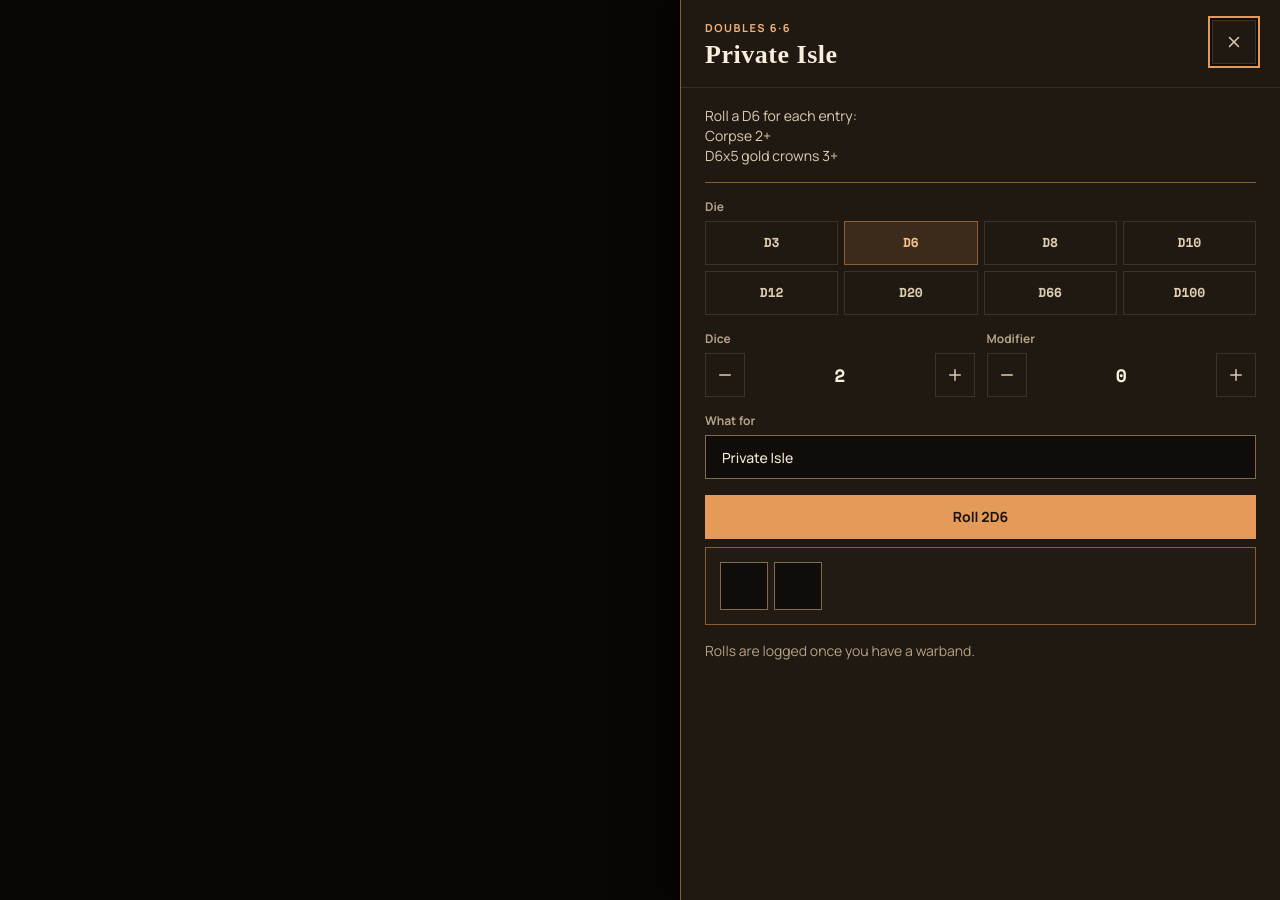
Test: PlaceRollPanel › holds the place's text above the dice roller, both on screen at once
expect the text "Doubles 6·6" is shown: met, box [705,20,791,35]
expect the text "Roll a D6 for each entry: Corpse 2+ D6x5 gold crowns 3+" is shown: met, box [705,106,1256,183]
Note: the table's roll typed in, as the top bar's roller takes it
Type "4" into the field named "First D6 rolled" at (744, 586), box [720,562,768,610]
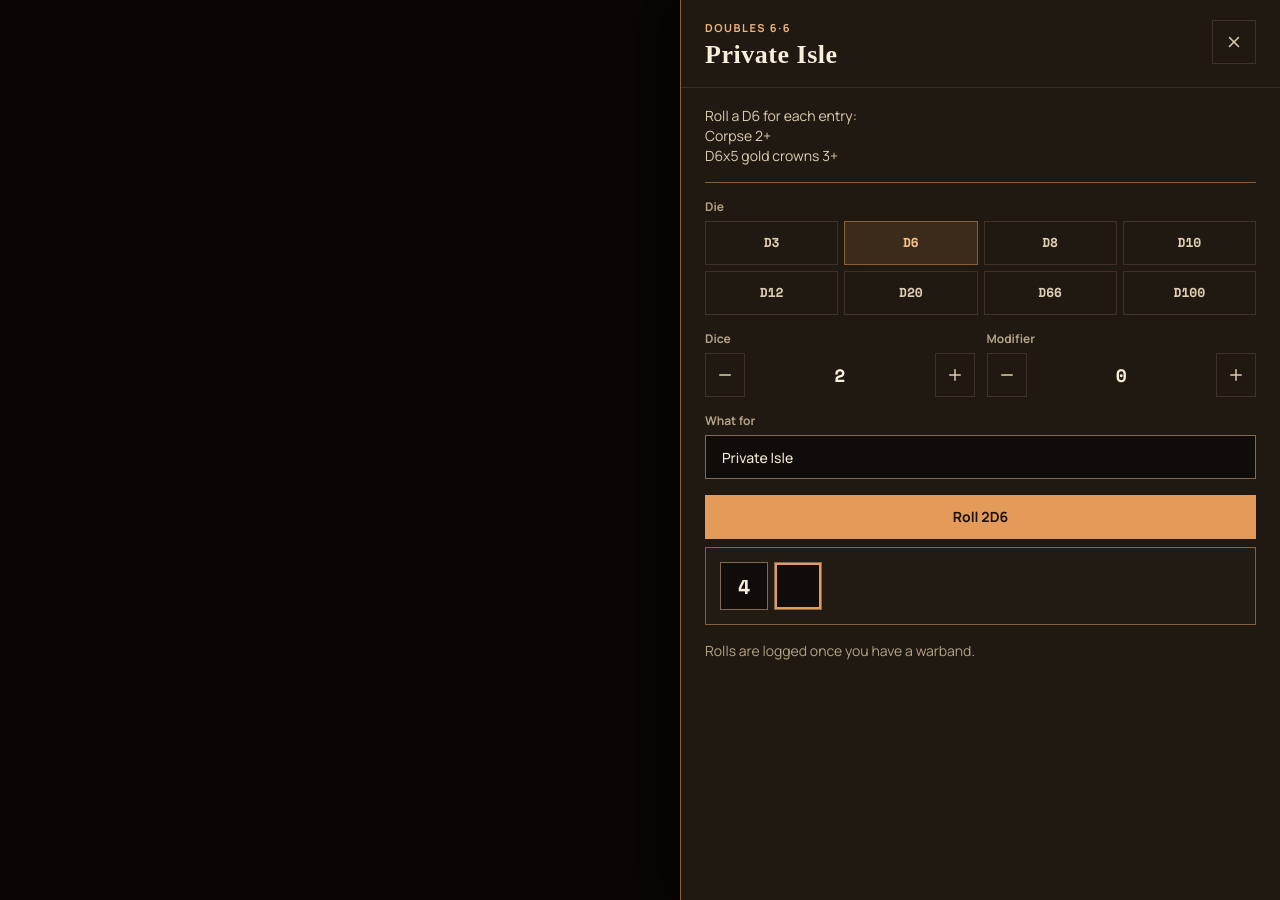
Type "6" into the field named "Second D6 rolled" at (798, 586), box [774,562,822,610]
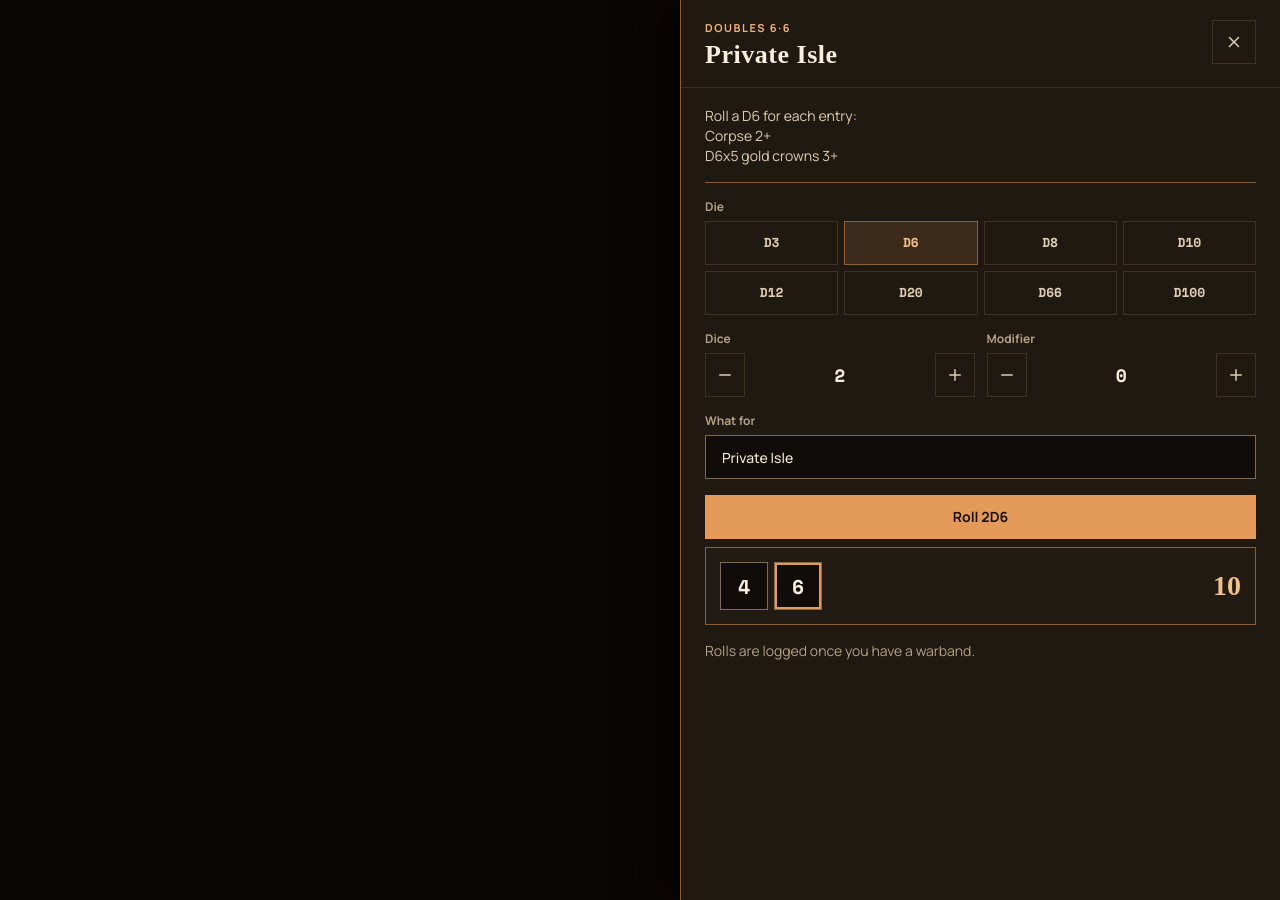
expect the text "Roll a D6 for each entry: Corpse 2+ D6x5 gold crowns 3+" is shown: met, box [705,106,1256,183]
expect the text "10" is shown: met, box [1213,565,1241,607]
